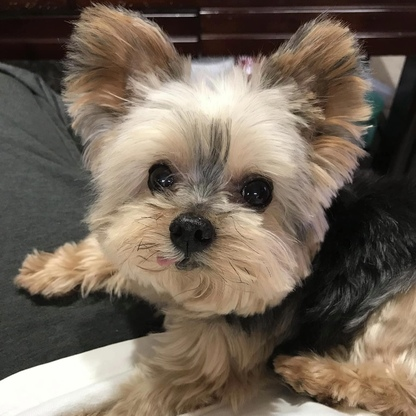yorkshire: (21, 5, 416, 410)
